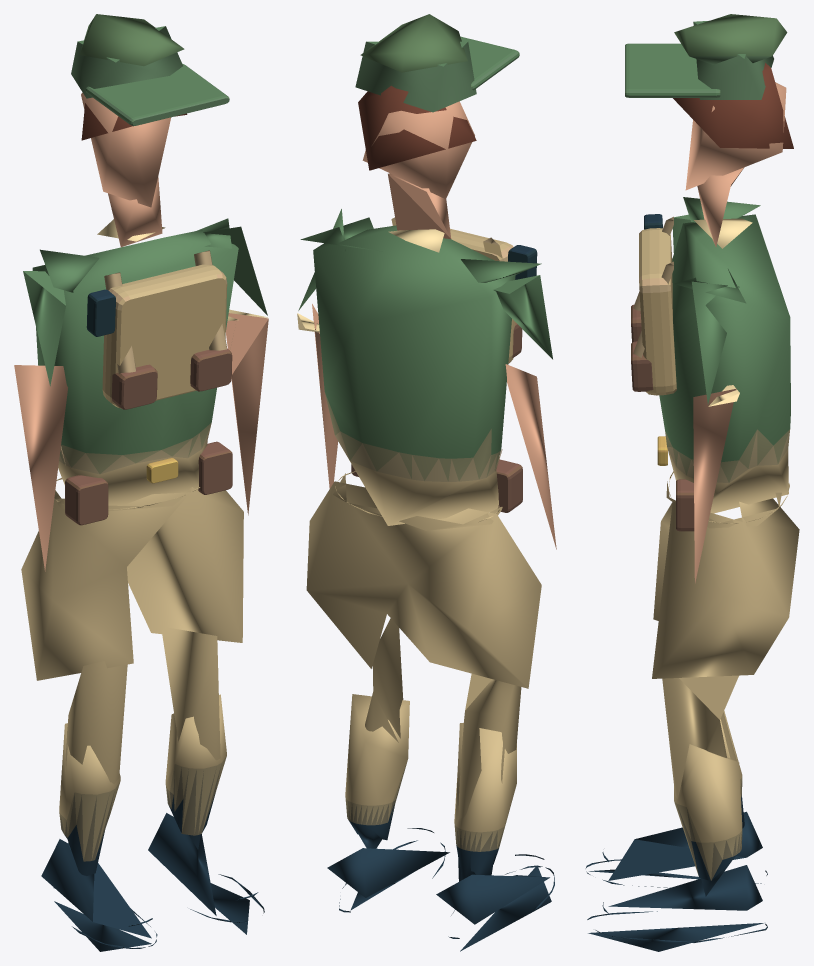
Rendered from guard-keeper-lod2.glb.
The picture shows the model from 3 angles, left to right: view 1: azimuth 30°, elevation 25°; view 2: azimuth 150°, elevation 25°; view 3: azimuth 270°, elevation 25°; orthographic projection. The views are drawn at different scales.
Parts seen in each view (by area): view 1: Guard; view 2: Guard; view 3: Guard.
Boxes of the visible parts, x1,y1,x2,y2 form: Guard: [14, 14, 268, 951]; Guard: [297, 14, 556, 951]; Guard: [585, 14, 799, 951].
Bounding box in the file's own units: 0.3929 × 1.34 × 0.2918.
Materials: 1 (1 with a texture image).
